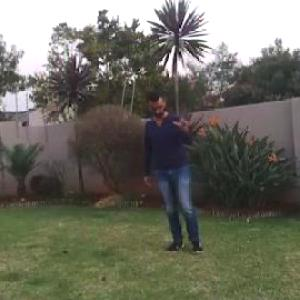land_hand: (174, 104, 195, 134)
